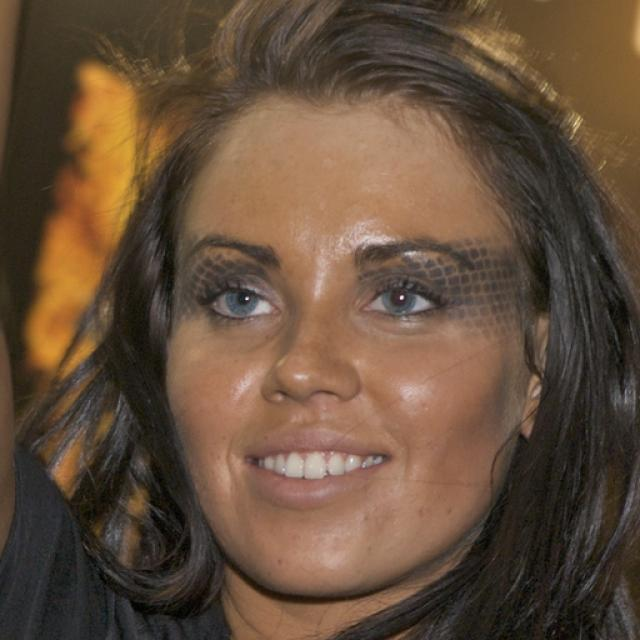happy: (163, 101, 526, 595)
